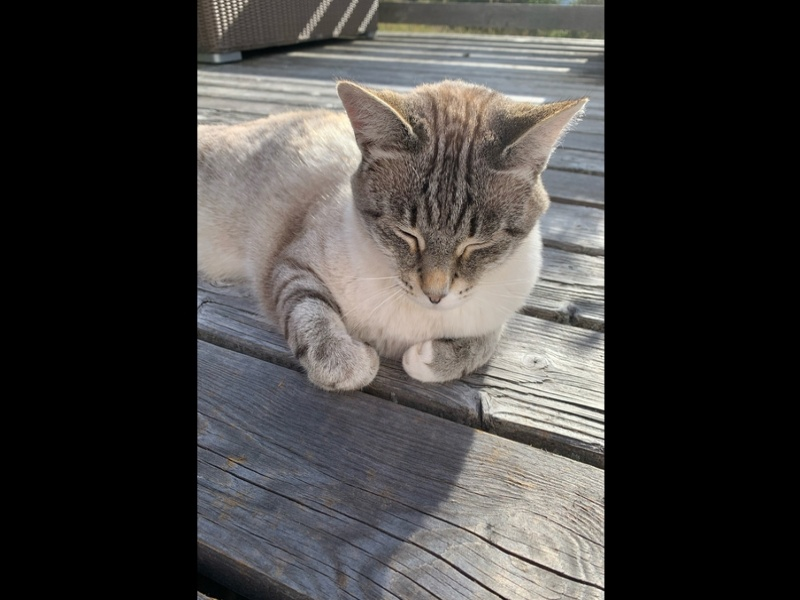cat: (199, 80, 593, 393)
